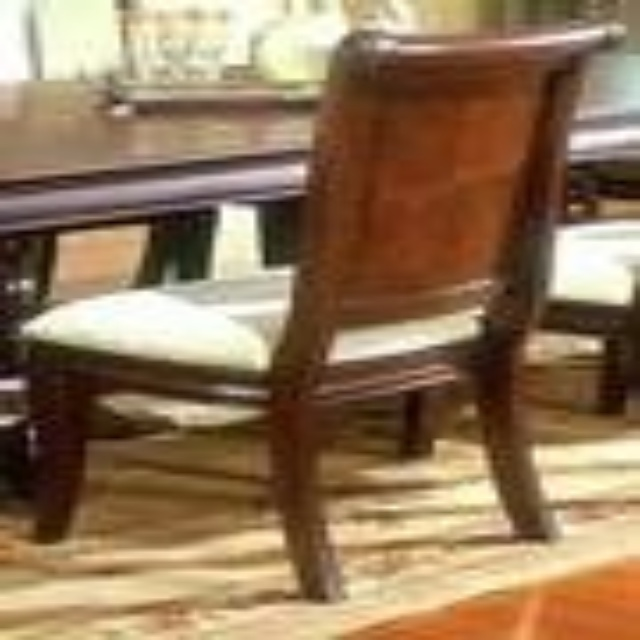obstacle: (0, 25, 619, 595)
